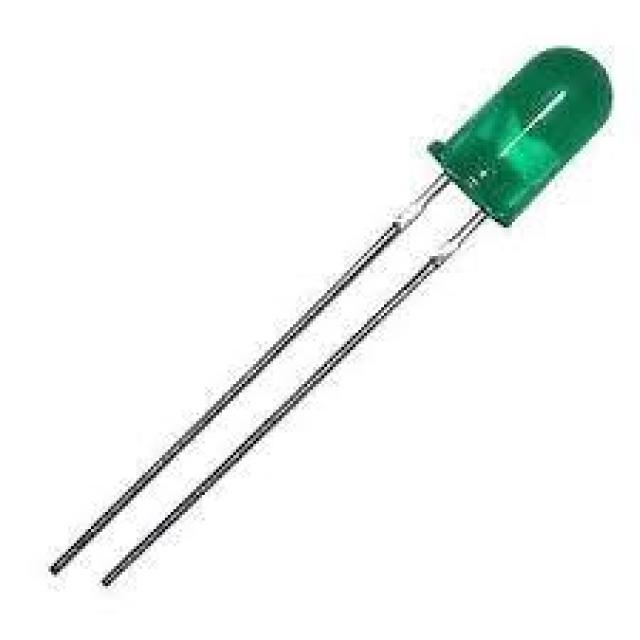Led: (51, 46, 612, 586)
